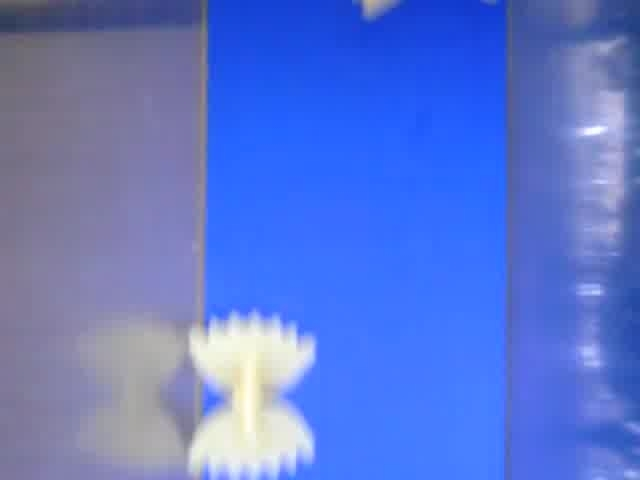farfalle: (186, 308, 322, 477)
